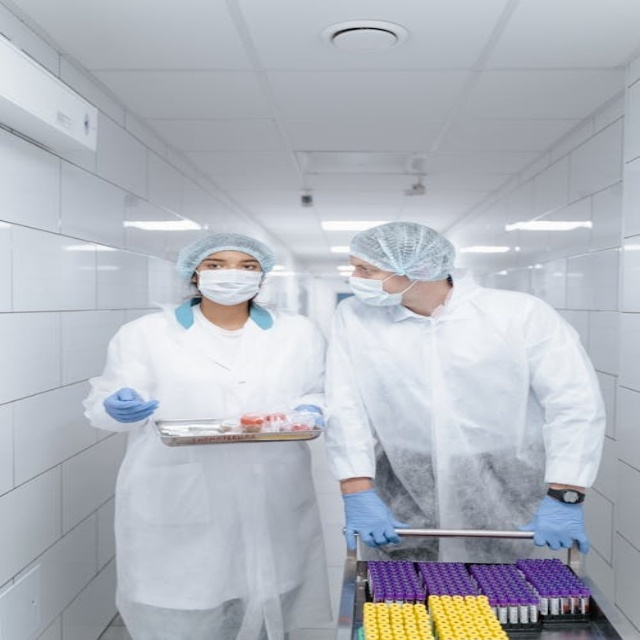Guantes: (516, 492, 588, 554), (342, 489, 409, 550), (104, 387, 158, 423), (294, 404, 325, 428)
Mascara: (194, 268, 265, 305), (348, 271, 415, 307)
Sin_gafas: (201, 258, 261, 270), (348, 259, 384, 276)
